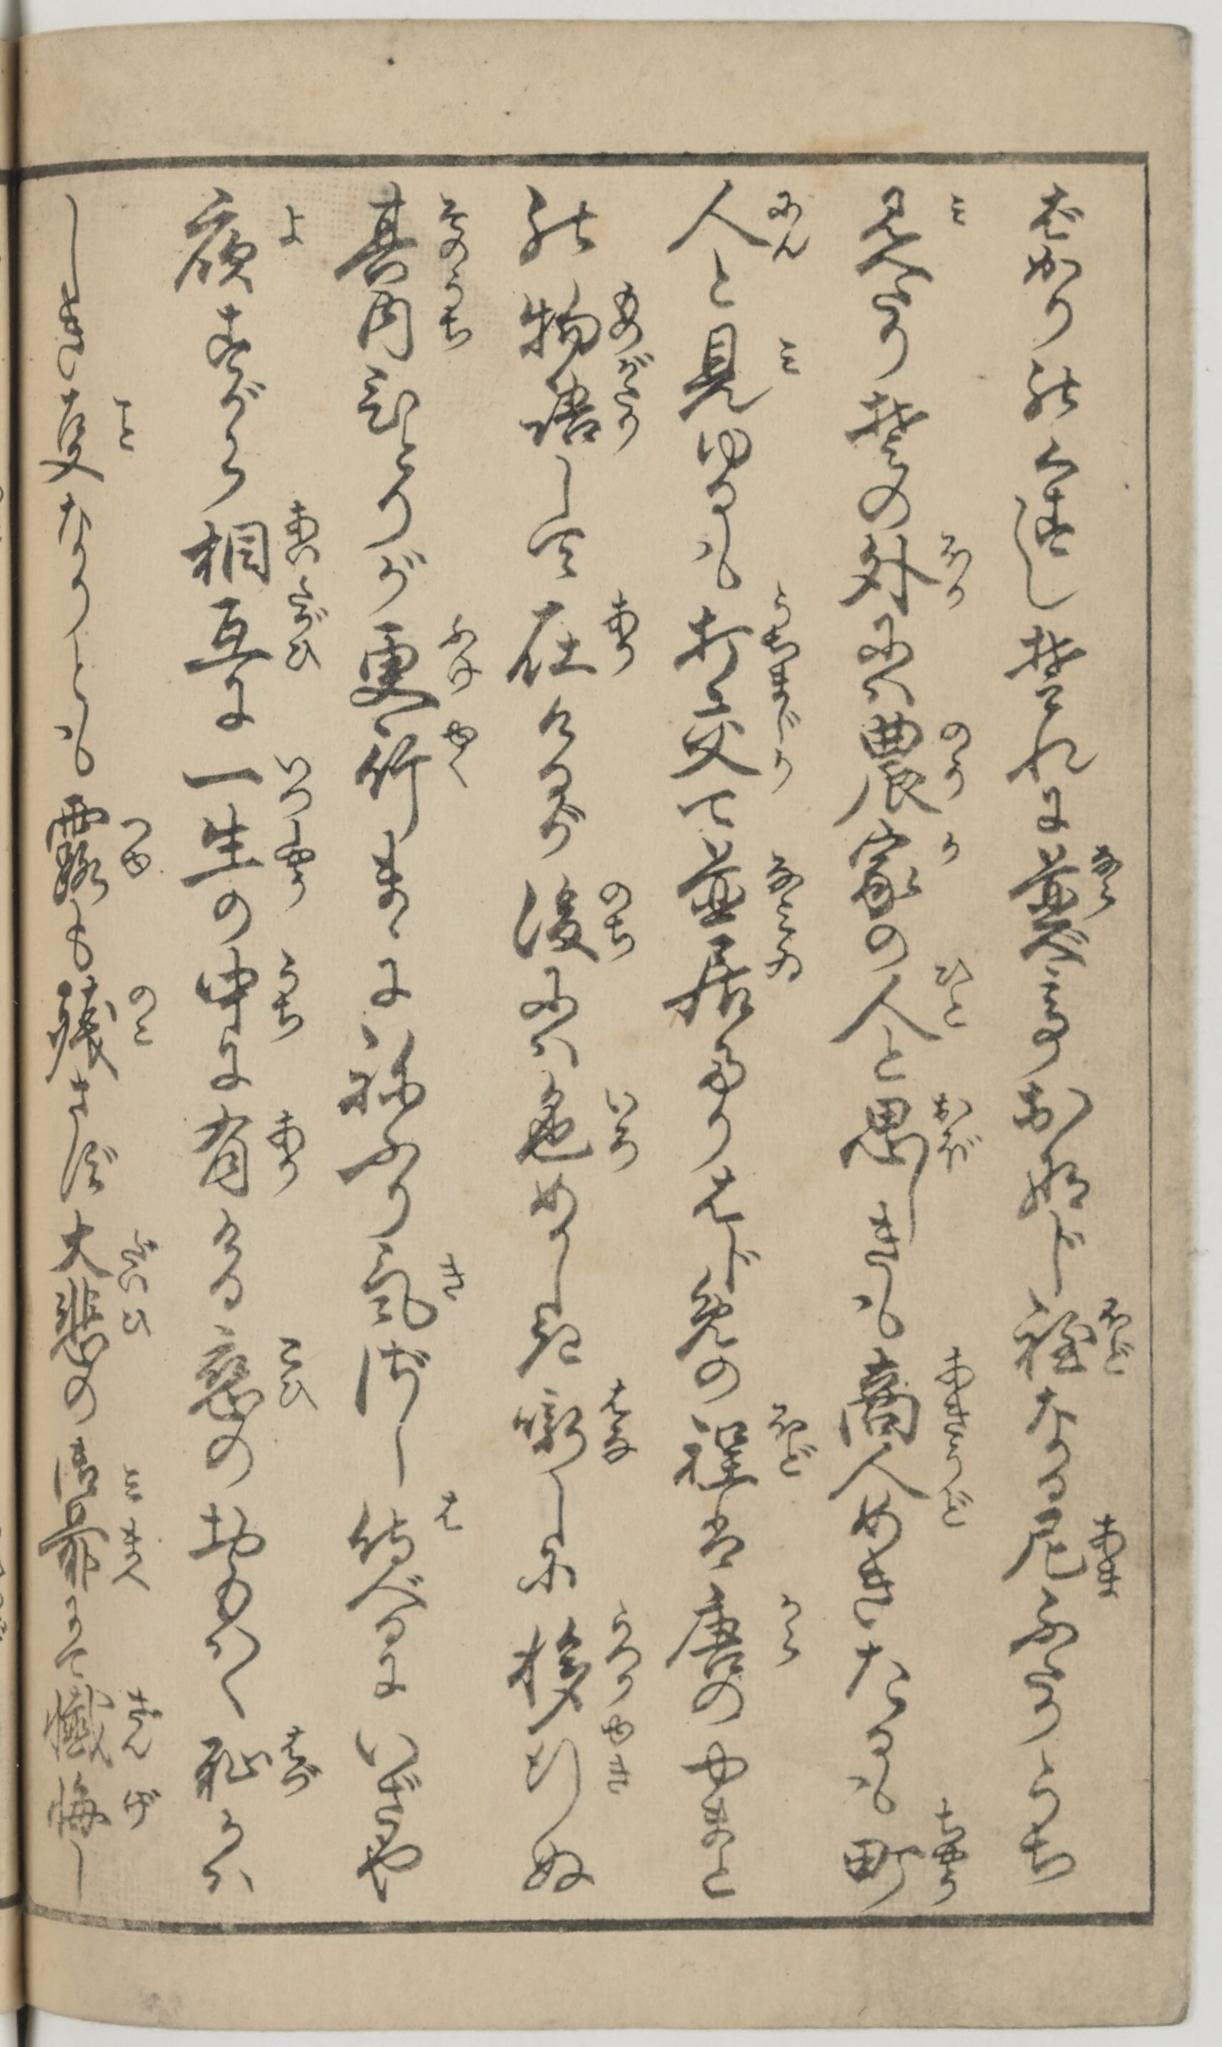MainZone-Character: (828, 1791, 985, 1915), (831, 711, 989, 823), (832, 1084, 986, 1199), (166, 186, 311, 300), (343, 719, 486, 832), (668, 1401, 820, 1504), (500, 1605, 649, 1711), (502, 1376, 644, 1485), (503, 1069, 649, 1176), (505, 1715, 646, 1823), (514, 352, 658, 457), (656, 317, 806, 418), (170, 582, 332, 675), (32, 790, 157, 909), (343, 614, 493, 713), (179, 1322, 322, 1426), (665, 691, 807, 793), (656, 176, 825, 262), (822, 1349, 982, 1439), (327, 186, 482, 279), (671, 582, 802, 691), (502, 586, 640, 690), (826, 530, 979, 623), (829, 1443, 982, 1535), (170, 499, 332, 585), (1011, 1288, 1146, 1389), (665, 933, 810, 1027), (492, 871, 646, 960), (666, 1583, 812, 1676), (832, 960, 983, 1049), (39, 973, 163, 1080), (175, 815, 326, 901), (668, 839, 809, 931), (992, 1509, 1139, 1596), (183, 1721, 333, 1805), (336, 279, 483, 362), (32, 1501, 160, 1596), (42, 1210, 175, 1301), (354, 1241, 482, 1334), (188, 944, 311, 1039), (841, 825, 970, 915), (186, 1103, 304, 1202), (39, 1282, 160, 1378), (36, 1686, 167, 1772), (505, 278, 653, 354), (1001, 839, 1132, 922), (33, 388, 141, 487), (172, 748, 322, 815), (338, 1493, 471, 1565), (844, 177, 975, 247), (35, 1433, 157, 1503), (36, 1775, 156, 1836)
MainZone-Ruby: (928, 1791, 972, 1907), (596, 1072, 646, 1171), (930, 1088, 986, 1173), (598, 1605, 643, 1709), (759, 694, 806, 789), (268, 818, 322, 898), (610, 355, 655, 450), (756, 844, 806, 928), (761, 182, 815, 259), (764, 1402, 816, 1481), (276, 1721, 326, 1804), (933, 1347, 978, 1437), (272, 1328, 317, 1417), (764, 583, 800, 688), (279, 586, 324, 671), (432, 191, 477, 274), (596, 877, 642, 959), (439, 615, 486, 694), (1091, 1513, 1133, 1599), (935, 720, 979, 803), (1098, 1293, 1138, 1385), (601, 1373, 637, 1472), (112, 1221, 160, 1295), (260, 1103, 300, 1193), (598, 1717, 644, 1792), (940, 1440, 976, 1533), (601, 589, 639, 678), (931, 957, 978, 1029), (269, 946, 305, 1032), (112, 1513, 151, 1592), (1087, 839, 1123, 924), (122, 1689, 163, 1763), (771, 1590, 809, 1669), (605, 278, 646, 351), (438, 720, 480, 790), (434, 282, 476, 349), (937, 531, 973, 608), (115, 807, 153, 880), (282, 499, 323, 566), (272, 752, 317, 810), (125, 979, 160, 1049), (432, 1245, 467, 1309), (118, 1778, 157, 1830), (772, 324, 804, 388), (106, 394, 140, 455), (765, 935, 804, 986), (271, 198, 308, 247), (940, 183, 975, 231), (431, 1490, 466, 1538), (116, 1304, 156, 1344), (935, 822, 965, 870), (118, 1461, 147, 1500)
